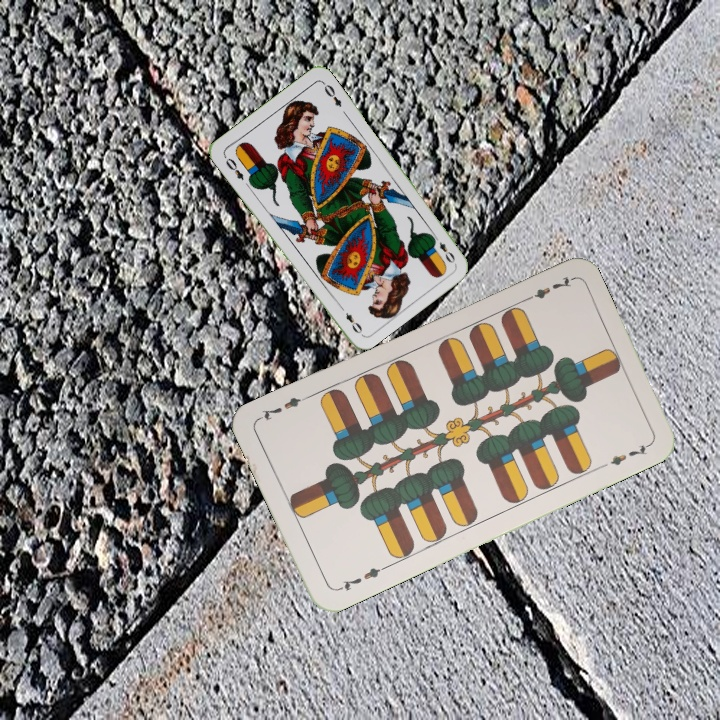E7: (519, 272, 575, 305), (332, 562, 389, 594)
EO: (429, 231, 458, 266), (222, 154, 246, 183)
